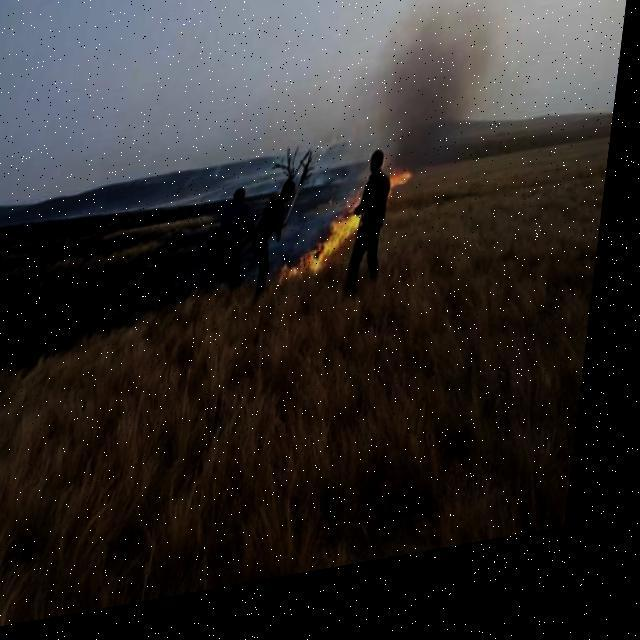Fire: (288, 167, 421, 305)
